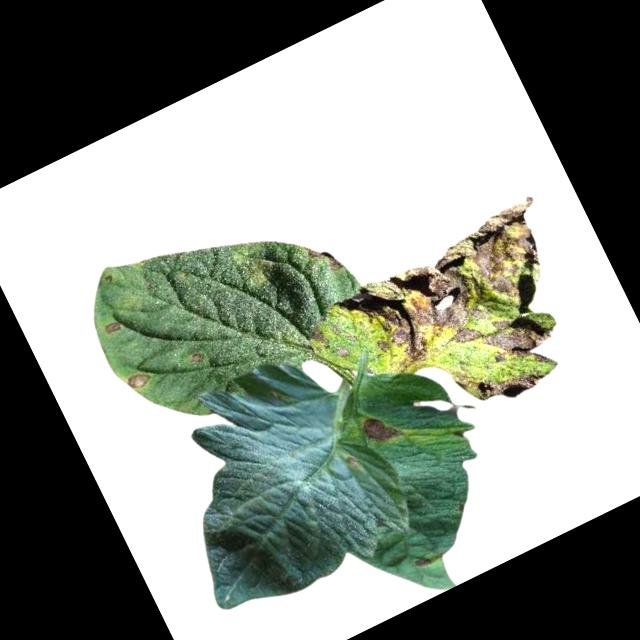Early_blight: (335, 193, 592, 413), (465, 352, 551, 418), (302, 236, 344, 281), (357, 409, 398, 449), (121, 367, 153, 393), (305, 325, 332, 353), (100, 317, 124, 337), (413, 552, 432, 571), (342, 452, 360, 472)
